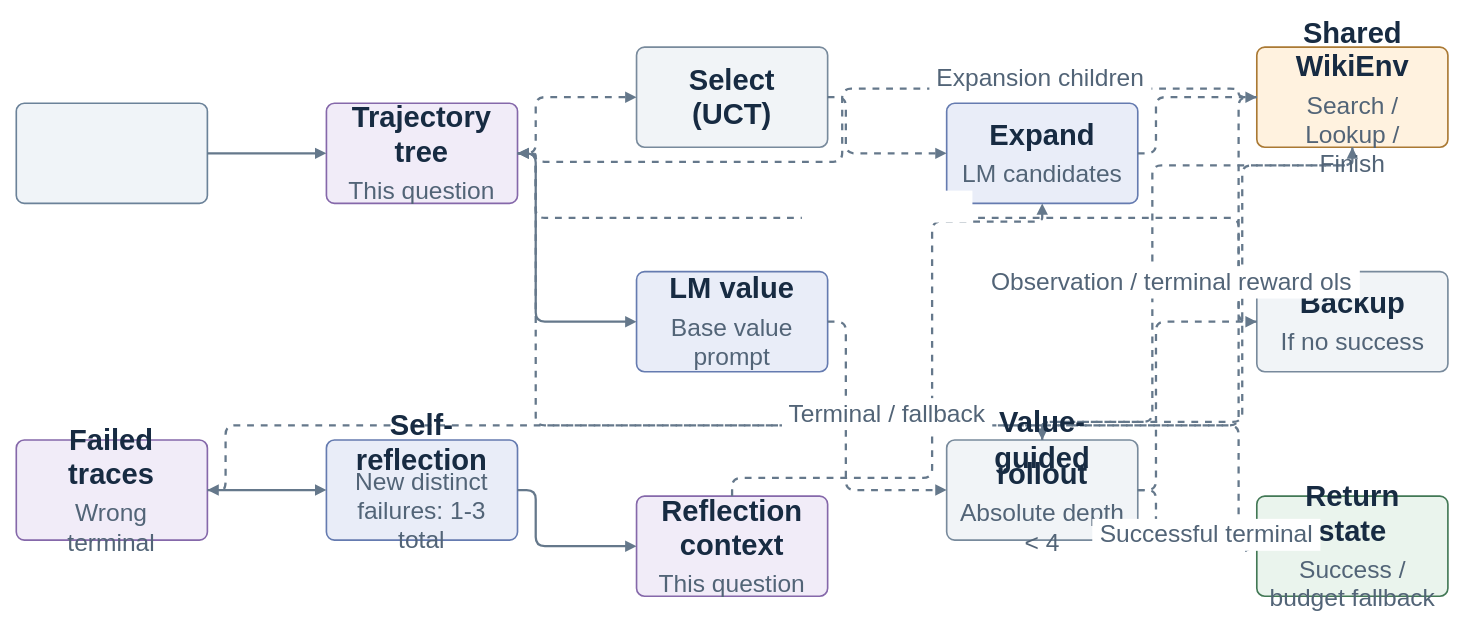
Some shapes in this 1464 by 629 pixel diagram are drawn without their labels. Here are the shapes that lost their labels. From the top down, the centre of each, then its label:
At (x=111, y=153): "Question".
At (x=886, y=206): "Values + visits".
